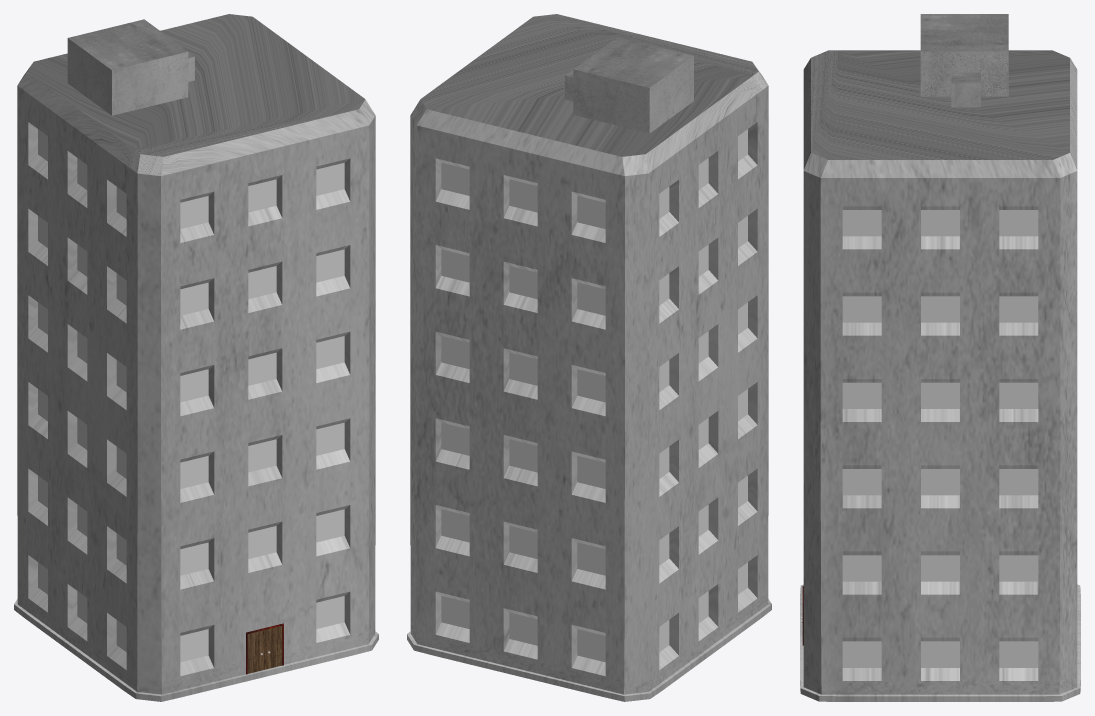
File: APARTMENT_05.fbx
The picture shows the model from 3 angles, left to right: view 1: azimuth 30°, elevation 25°; view 2: azimuth 150°, elevation 25°; view 3: azimuth 270°, elevation 25°; orthographic projection.
Visible parts, largest first — view 1: APARTMENT_05; view 2: APARTMENT_05; view 3: APARTMENT_05.
Boxes of the visible parts, x1=… form: APARTMENT_05: x1=14, y1=14, x2=378, y2=701; APARTMENT_05: x1=407, y1=14, x2=771, y2=701; APARTMENT_05: x1=800, y1=14, x2=1080, y2=701.
Bounding box in the file's own units: 1390 × 3182 × 1390.
